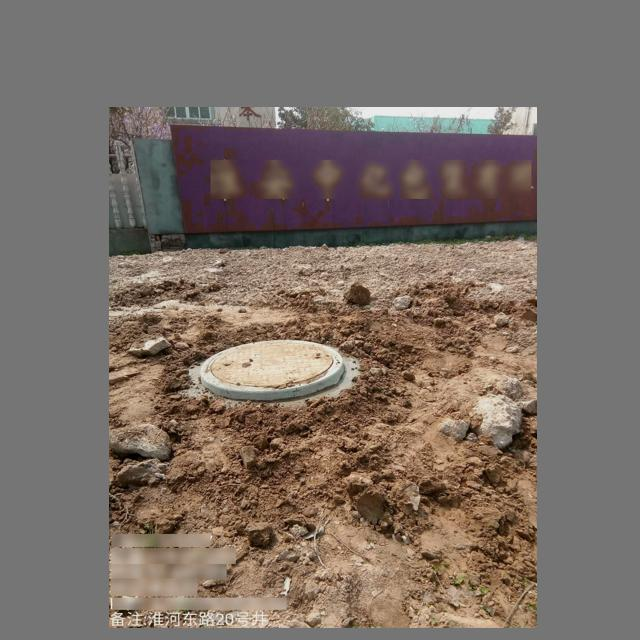good: (198, 335, 356, 392)
